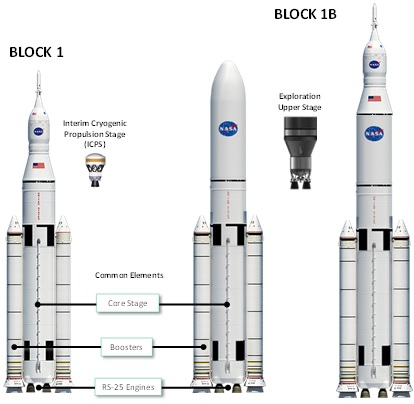NASA: (362, 124, 385, 144), (217, 119, 241, 137), (367, 58, 382, 71), (32, 125, 47, 137)
